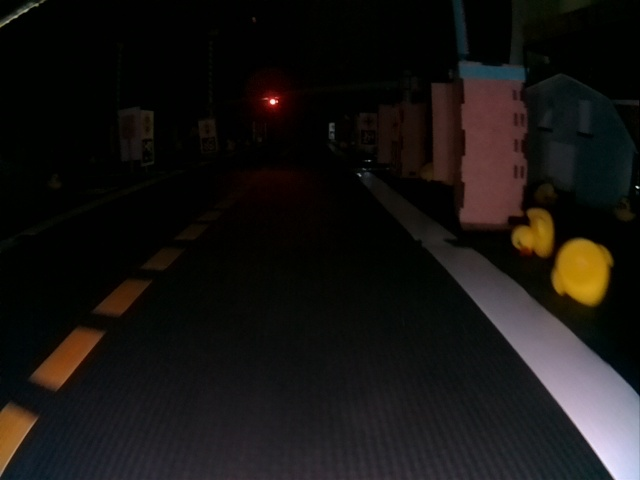Duckie: (552, 238, 613, 306), (512, 208, 554, 257)
Traffic light: (267, 97, 277, 107)
